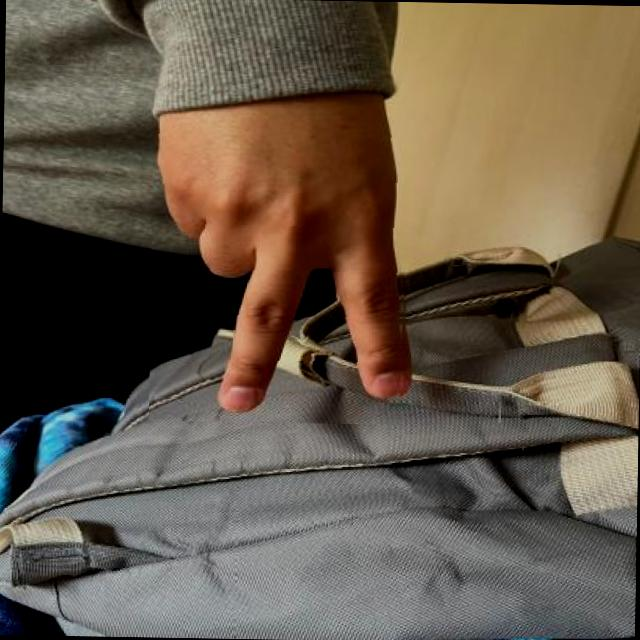N: (148, 66, 412, 424)
